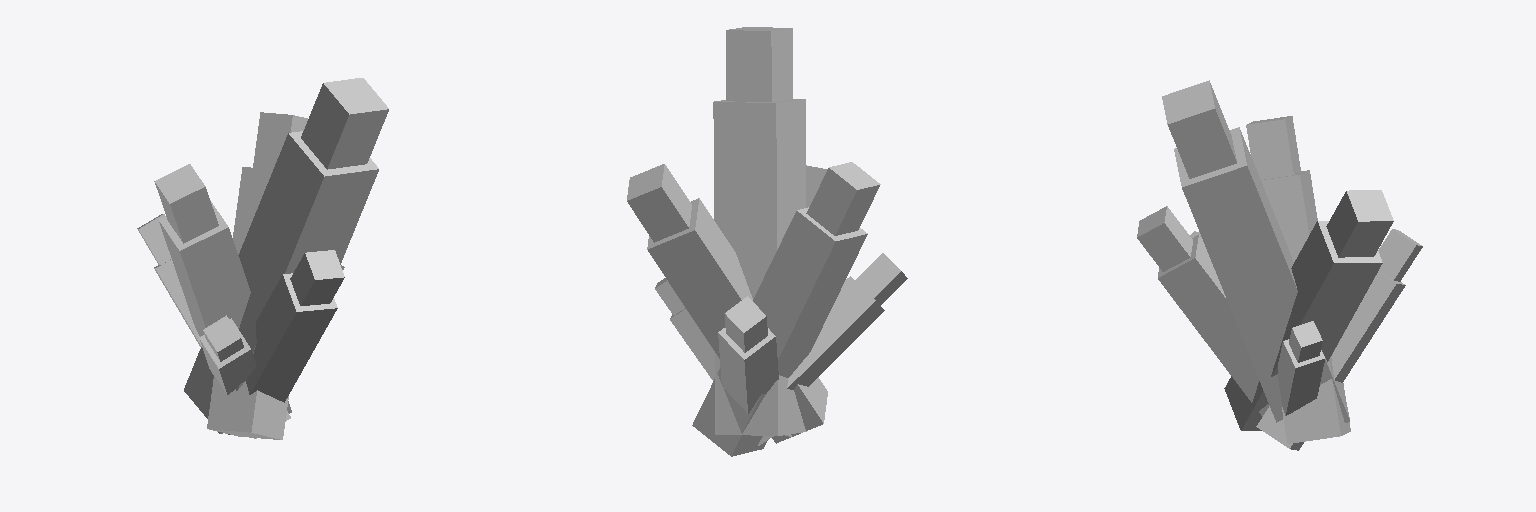
The model's file is crystal cluster.obj.
3 views of the same model, side by side, from view 1: azimuth 30°, elevation 25°; view 2: azimuth 150°, elevation 25°; view 3: azimuth 270°, elevation 25° (orthographic).
Visible parts, largest first — view 1: crystal_cluster; view 2: crystal_cluster; view 3: crystal_cluster.
Boxes of the visible parts, x1=… form: crystal_cluster: x1=137, y1=78, x2=388, y2=439; crystal_cluster: x1=627, y1=27, x2=907, y2=456; crystal_cluster: x1=1137, y1=80, x2=1422, y2=450.
Bounding box in the file's own units: 1.62 × 2.98 × 2.02.